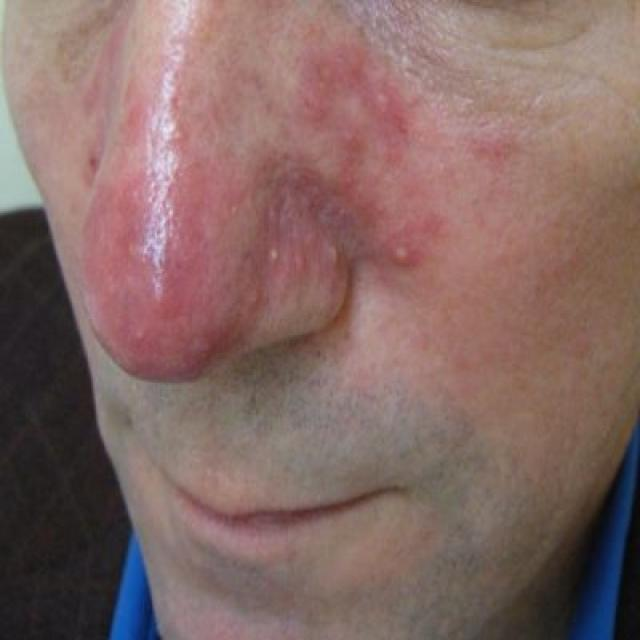Rosacea: (93, 68, 350, 390)
